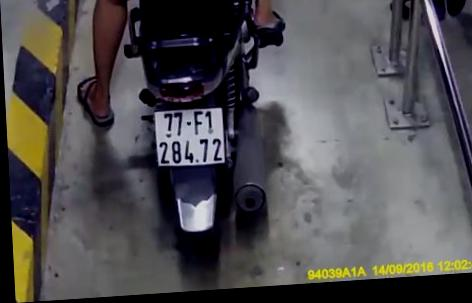License_Plate: (147, 96, 234, 177)
